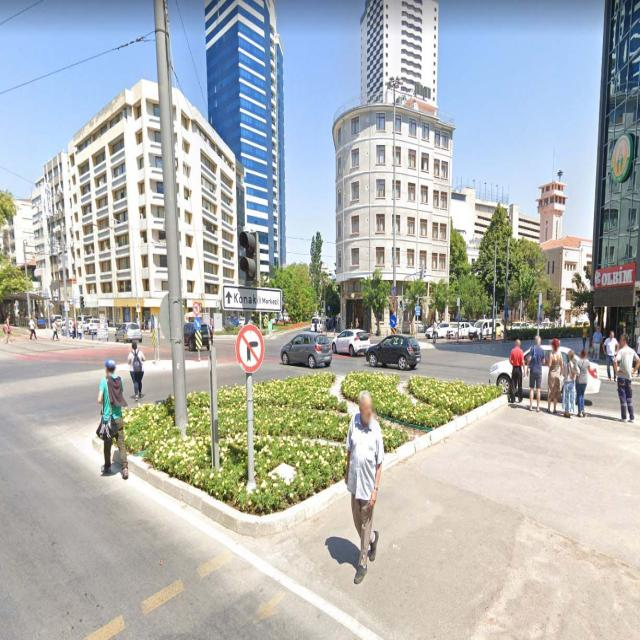sagadonulmez: (238, 326, 264, 371)
soladonulmez: (193, 303, 200, 315)
